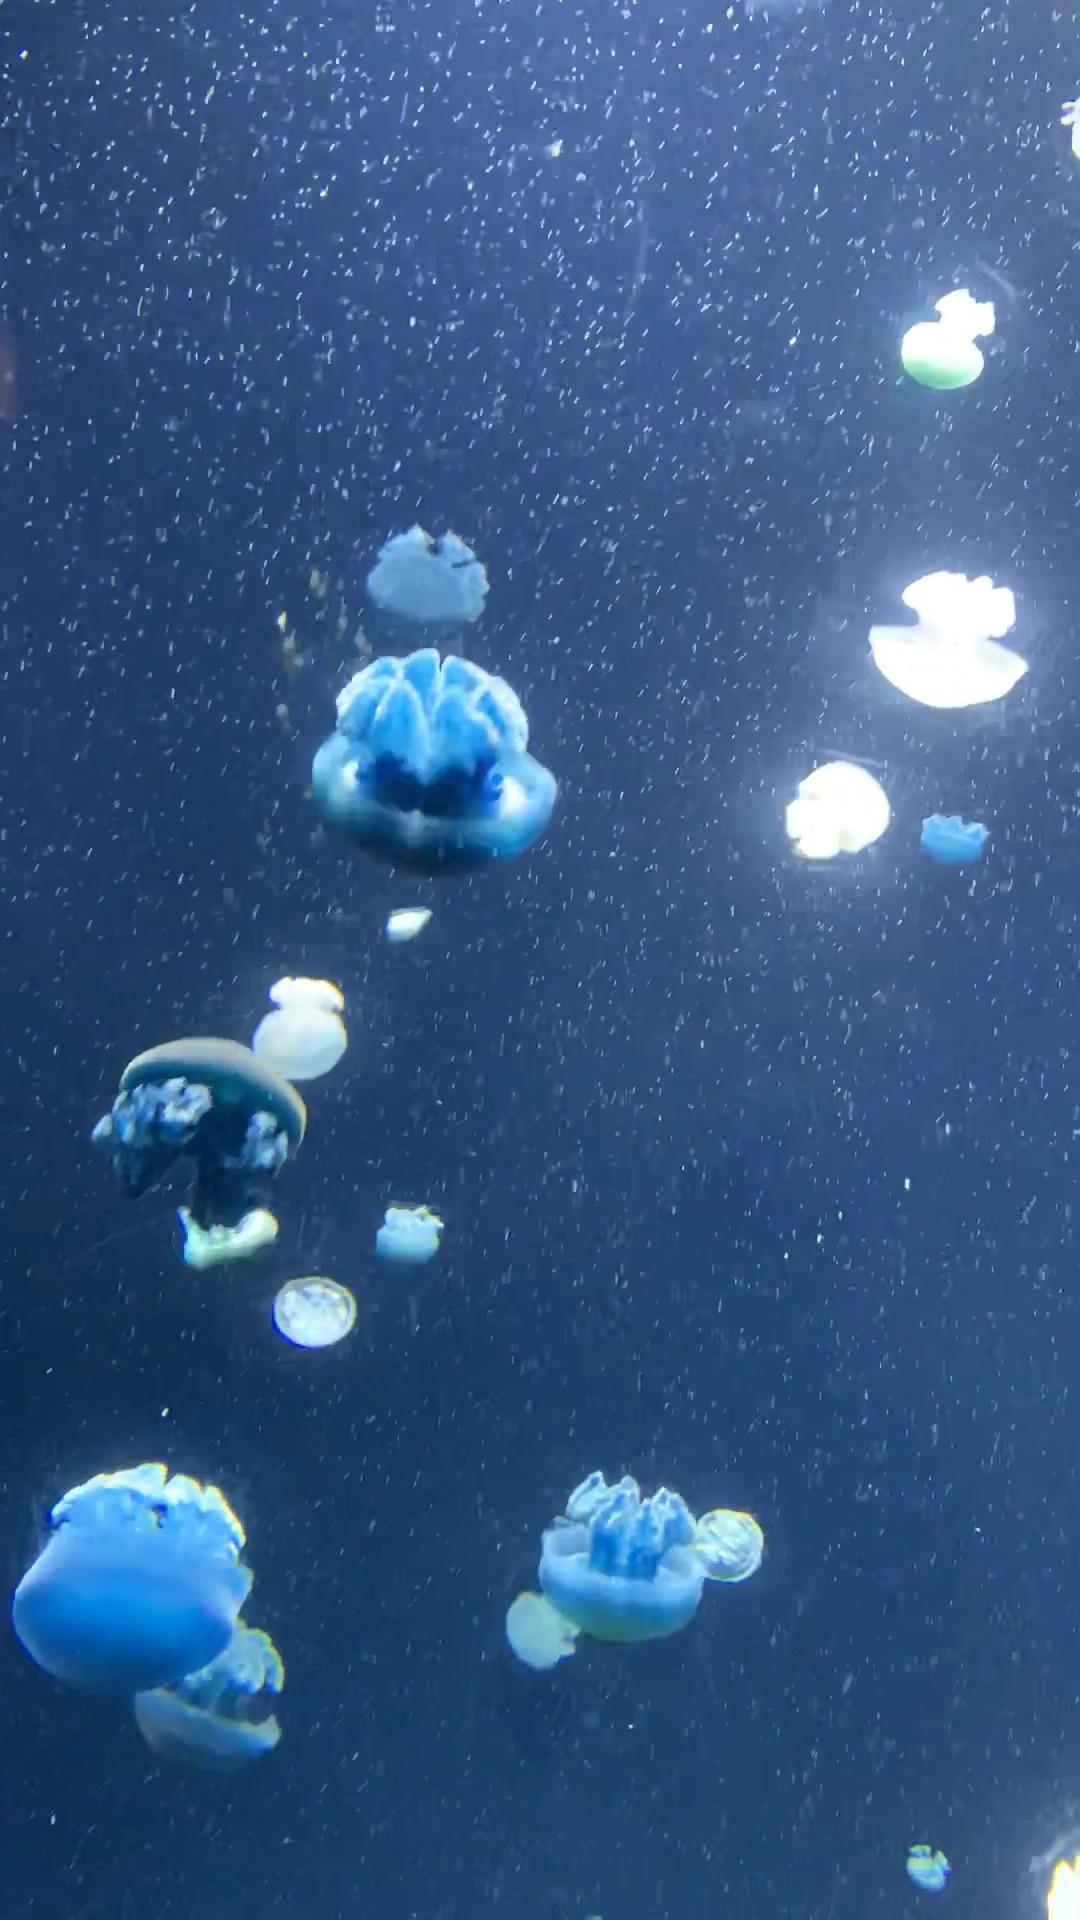jellyfish: (17, 1456, 260, 1693), (307, 655, 558, 880), (98, 1034, 313, 1271), (506, 1458, 746, 1669), (131, 1604, 301, 1783), (866, 562, 1034, 711), (363, 524, 492, 651), (251, 971, 371, 1104), (899, 278, 1007, 396), (785, 757, 897, 862), (495, 1578, 592, 1677), (269, 1271, 368, 1346), (694, 1510, 781, 1593), (922, 803, 1000, 876), (371, 1201, 444, 1276), (380, 907, 451, 948)
